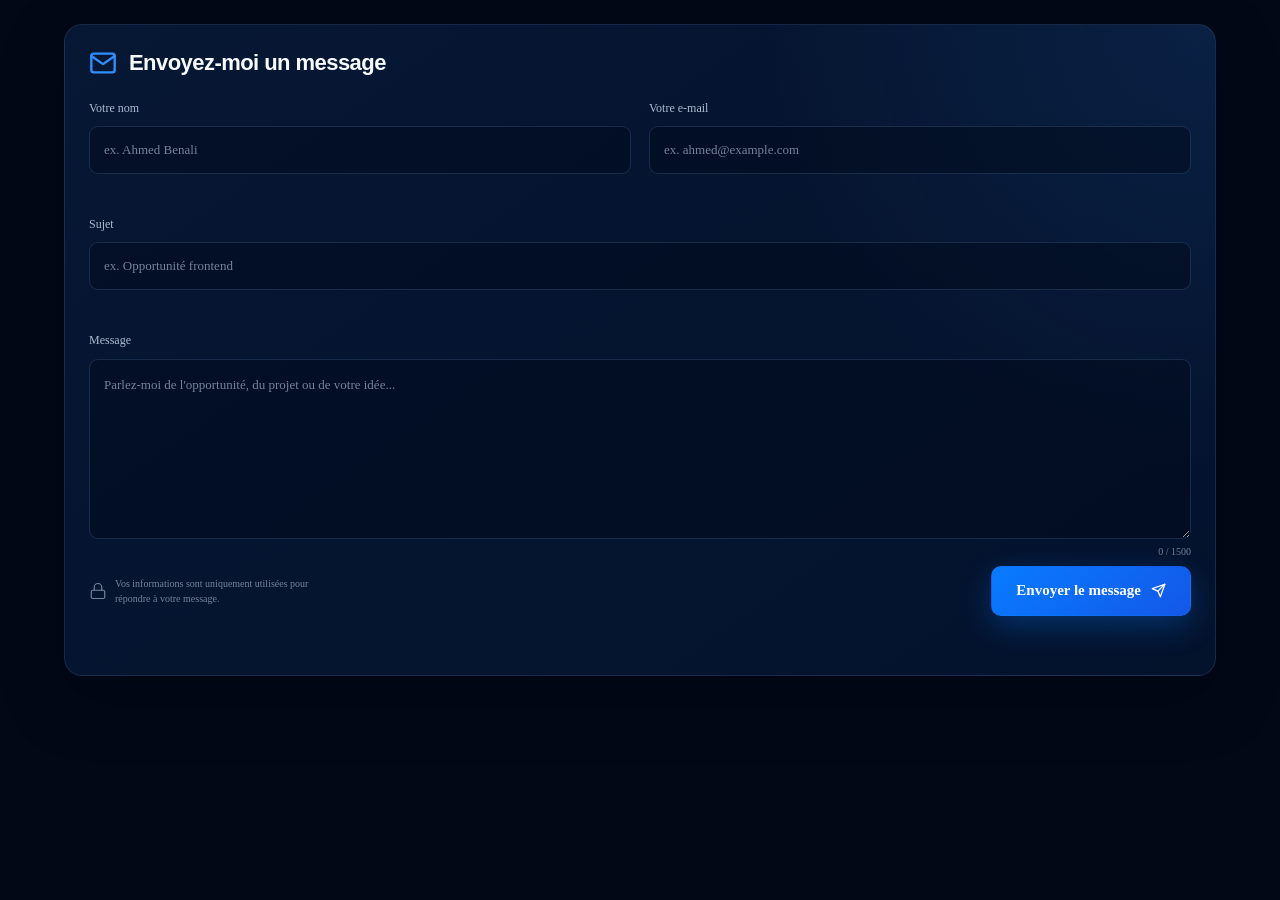
Test case: ContactForm › uses localized French validation messages
Click the button "Envoyer le message" at (1091, 591), box [991,566,1191,616]
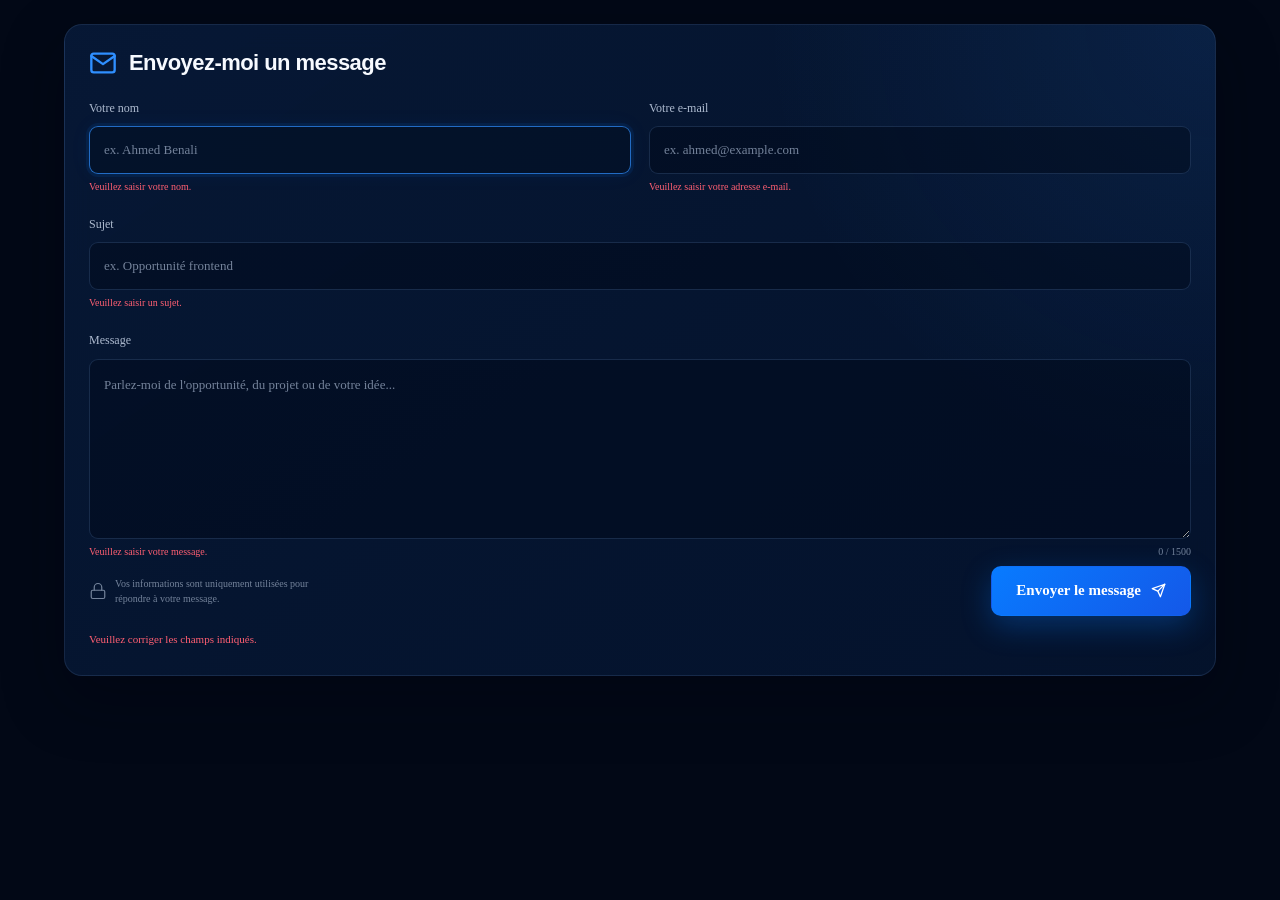
Result: the text "Veuillez saisir votre adresse e-mail." is shown at [649,181,791,192]
